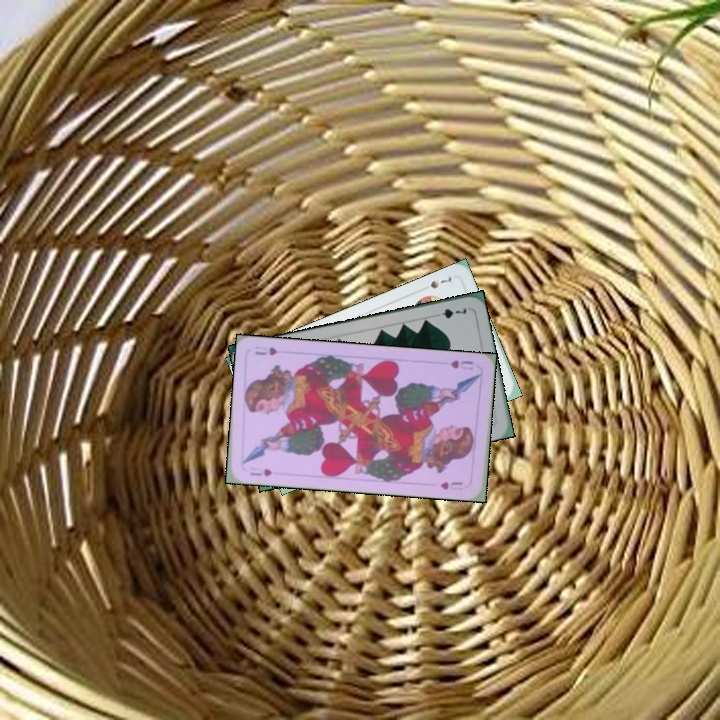G7: (430, 303, 469, 321)
HU: (447, 356, 476, 372), (246, 464, 275, 479)
S7: (426, 271, 454, 291)
